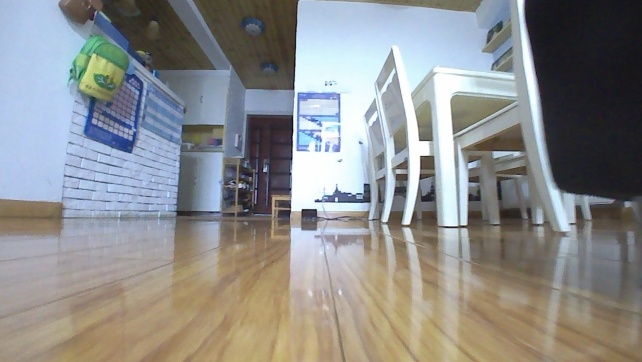dining_table: (358, 0, 595, 235)
door_anno: (243, 111, 294, 213)
